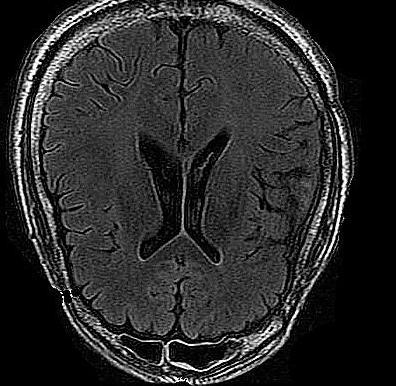Normal_Brain: (1, 1, 348, 386)
